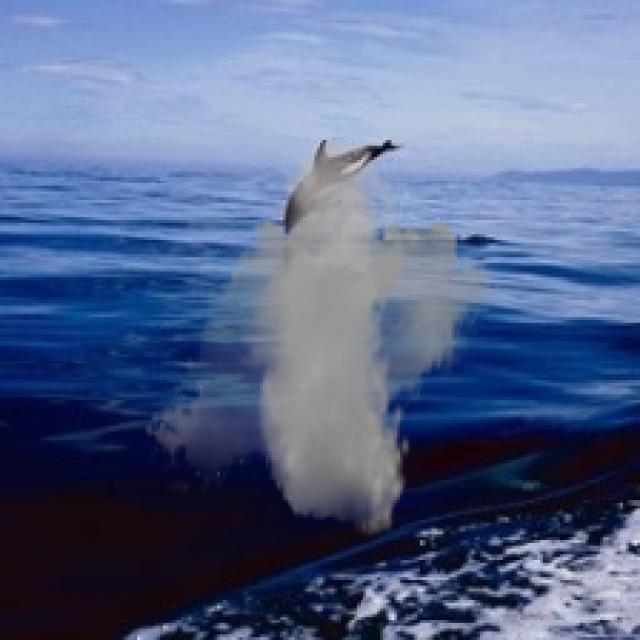Smoke: (143, 137, 503, 537)
